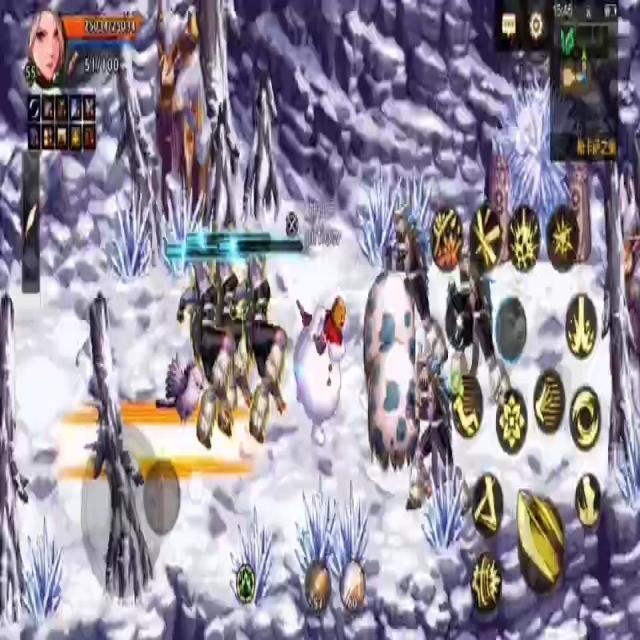player: (294, 283, 348, 459)
